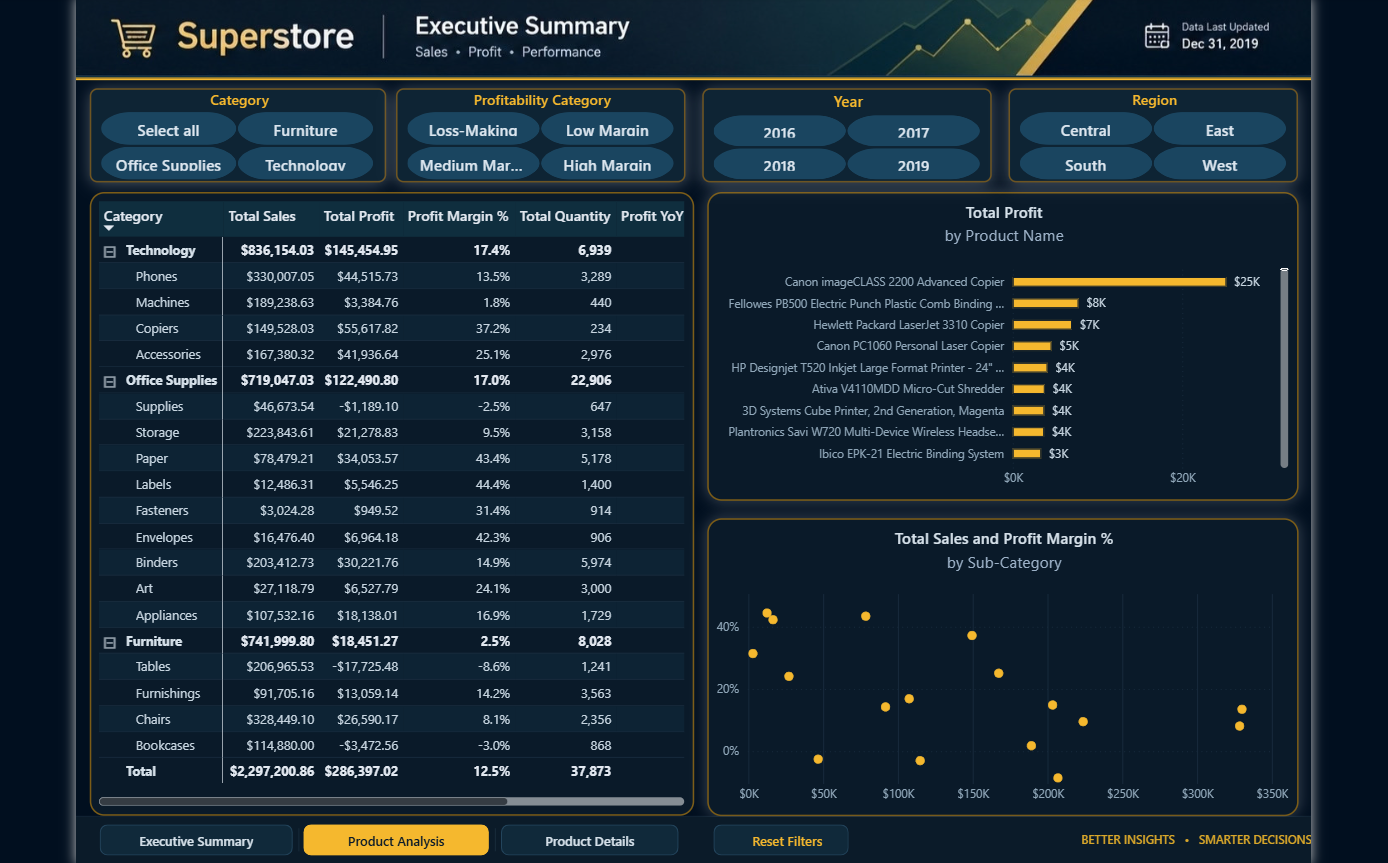

This screenshot's page, from the dashboard's own definition file:
{"tool":"powerbi","page":{"name":"Product Analysis","canvas":[1280,900],"ordinal":1},"visuals":[{"type":"advancedSlicerVisual","title":"Category","fields":{"Values":["Orders.Category"]},"box":[13.8,95,307.5,97.5],"z":0},{"type":"advancedSlicerVisual","title":"Profitability Category","fields":{"Values":["Orders.Profitability Category"]},"box":[331.2,95,300,97.5],"z":1000},{"type":"pivotTable","fields":{"Rows":["Orders.Category","Orders.Sub-Category"],"Values":["Orders.Total Sales","Orders.Total Profit","Orders.Profit Margin %","Orders.Total Quantity","Orders.Profit YoY Growth %","Orders.Average Discount"]},"box":[13.8,202.5,626.2,646.2],"z":2000},{"type":"barChart","fields":{"Category":["Orders.Product Name"],"Y":["Orders.Total Profit"]},"box":[653.8,202.5,612.5,320],"z":3000},{"type":"scatterChart","fields":{"Category":["Orders.Sub-Category"],"X":["Orders.Total Sales"],"Y":["Orders.Profit Margin %"]},"box":[653.8,540,612.5,308.8],"z":4000},{"type":"advancedSlicerVisual","title":"Year","fields":{"Values":["Date.Year"]},"box":[648.8,95,300,97.5],"z":5000},{"type":"advancedSlicerVisual","title":"Region","fields":{"Values":["Orders.Region"]},"box":[966.2,95,300,97.5],"z":6000},{"type":"shape","box":[0,0,1280,83.6],"z":7000},{"type":"shape","box":[0,84,1280,2],"z":8000},{"type":"shape","box":[320,17,2,50],"z":9000},{"type":"image","box":[36,21,46,42],"z":10000},{"type":"textbox","box":[340.9,0,420,64],"z":11000},{"type":"textbox","box":[103,10,210,60],"z":12000},{"type":"shape","box":[0,850,1280,50],"z":13000},{"type":"shape","box":[0,849,1280,1],"z":14000},{"type":"actionButton","box":[24,858,200,32],"z":15000},{"type":"actionButton","box":[236,858,192,32],"z":16000},{"type":"actionButton","box":[440,858,184,32],"z":17000},{"type":"actionButton","box":[660,858,140,32],"z":18000},{"type":"textbox","box":[1024,861,256,28],"z":19000},{"type":"shape","box":[230,862,1,24],"z":20000},{"type":"shape","box":[434,862,1,24],"z":21000},{"type":"image","box":[0,0,1280,83.6],"z":22000},{"type":"image","box":[0,0,1279.8,82.9],"z":23000}]}

Visuals, with their boxes on the page's 1280x900 design canvas (x1, y1, x2, y2). These are canvas units, not pixel positions in the 1388x863 screenshot, which may show the page scaled, cropped or inside an application window:
"Category" advancedSlicerVisual: select_region(14, 95, 321, 192)
"Profitability Category" advancedSlicerVisual: select_region(331, 95, 631, 192)
pivotTable - Orders.Category x Orders.Sub-Category: select_region(14, 202, 640, 849)
barChart - Orders.Product Name x Orders.Total Profit: select_region(654, 202, 1266, 522)
scatterChart - Orders.Sub-Category x Orders.Total Sales: select_region(654, 540, 1266, 849)
"Year" advancedSlicerVisual: select_region(649, 95, 949, 192)
"Region" advancedSlicerVisual: select_region(966, 95, 1266, 192)
shape: select_region(0, 0, 1280, 84)
shape: select_region(0, 84, 1280, 86)
shape: select_region(320, 17, 322, 67)
image: select_region(36, 21, 82, 63)
textbox: select_region(341, 0, 761, 64)
textbox: select_region(103, 10, 313, 70)
shape: select_region(0, 850, 1280, 900)
shape: select_region(0, 849, 1280, 850)
actionButton: select_region(24, 858, 224, 890)
actionButton: select_region(236, 858, 428, 890)
actionButton: select_region(440, 858, 624, 890)
actionButton: select_region(660, 858, 800, 890)
textbox: select_region(1024, 861, 1280, 889)
shape: select_region(230, 862, 231, 886)
shape: select_region(434, 862, 435, 886)
image: select_region(0, 0, 1280, 84)
image: select_region(0, 0, 1280, 83)
